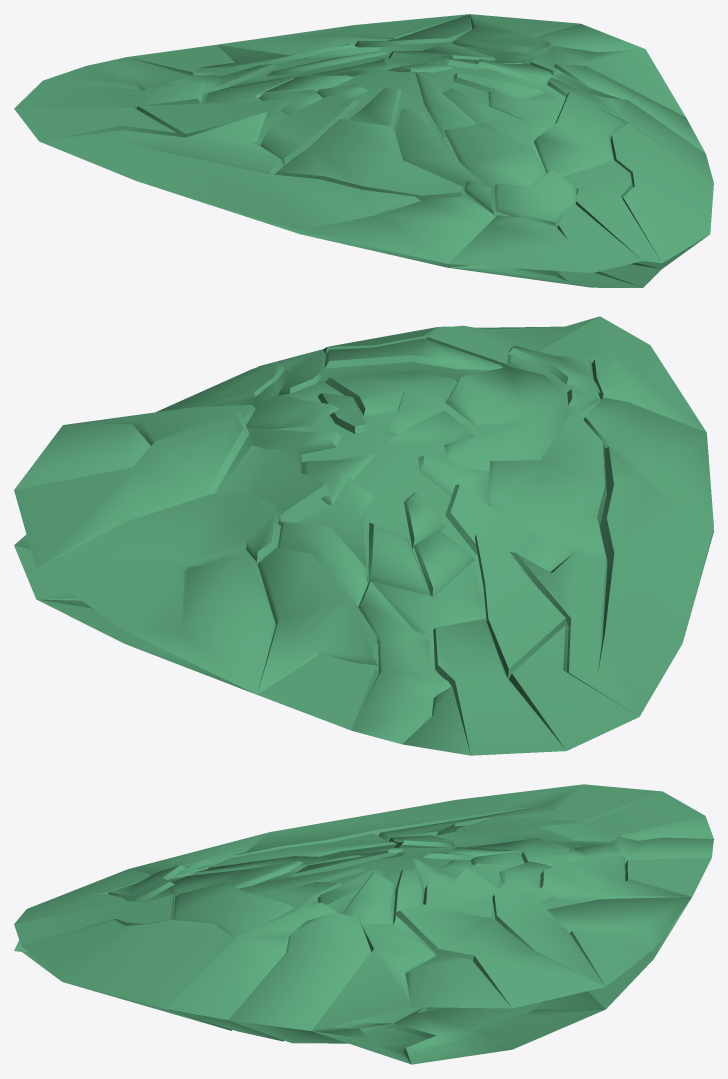
File: etc_dargonship_weapon_eff_wand_eff2.glb
The picture shows the model from 3 angles, top to bottom: view 1: azimuth 30°, elevation 25°; view 2: azimuth 150°, elevation 25°; view 3: azimuth 270°, elevation 25°; orthographic projection. The views are drawn at different scales.
Size of the model in its own units: 1.1 by 0.3042 by 1.3.
